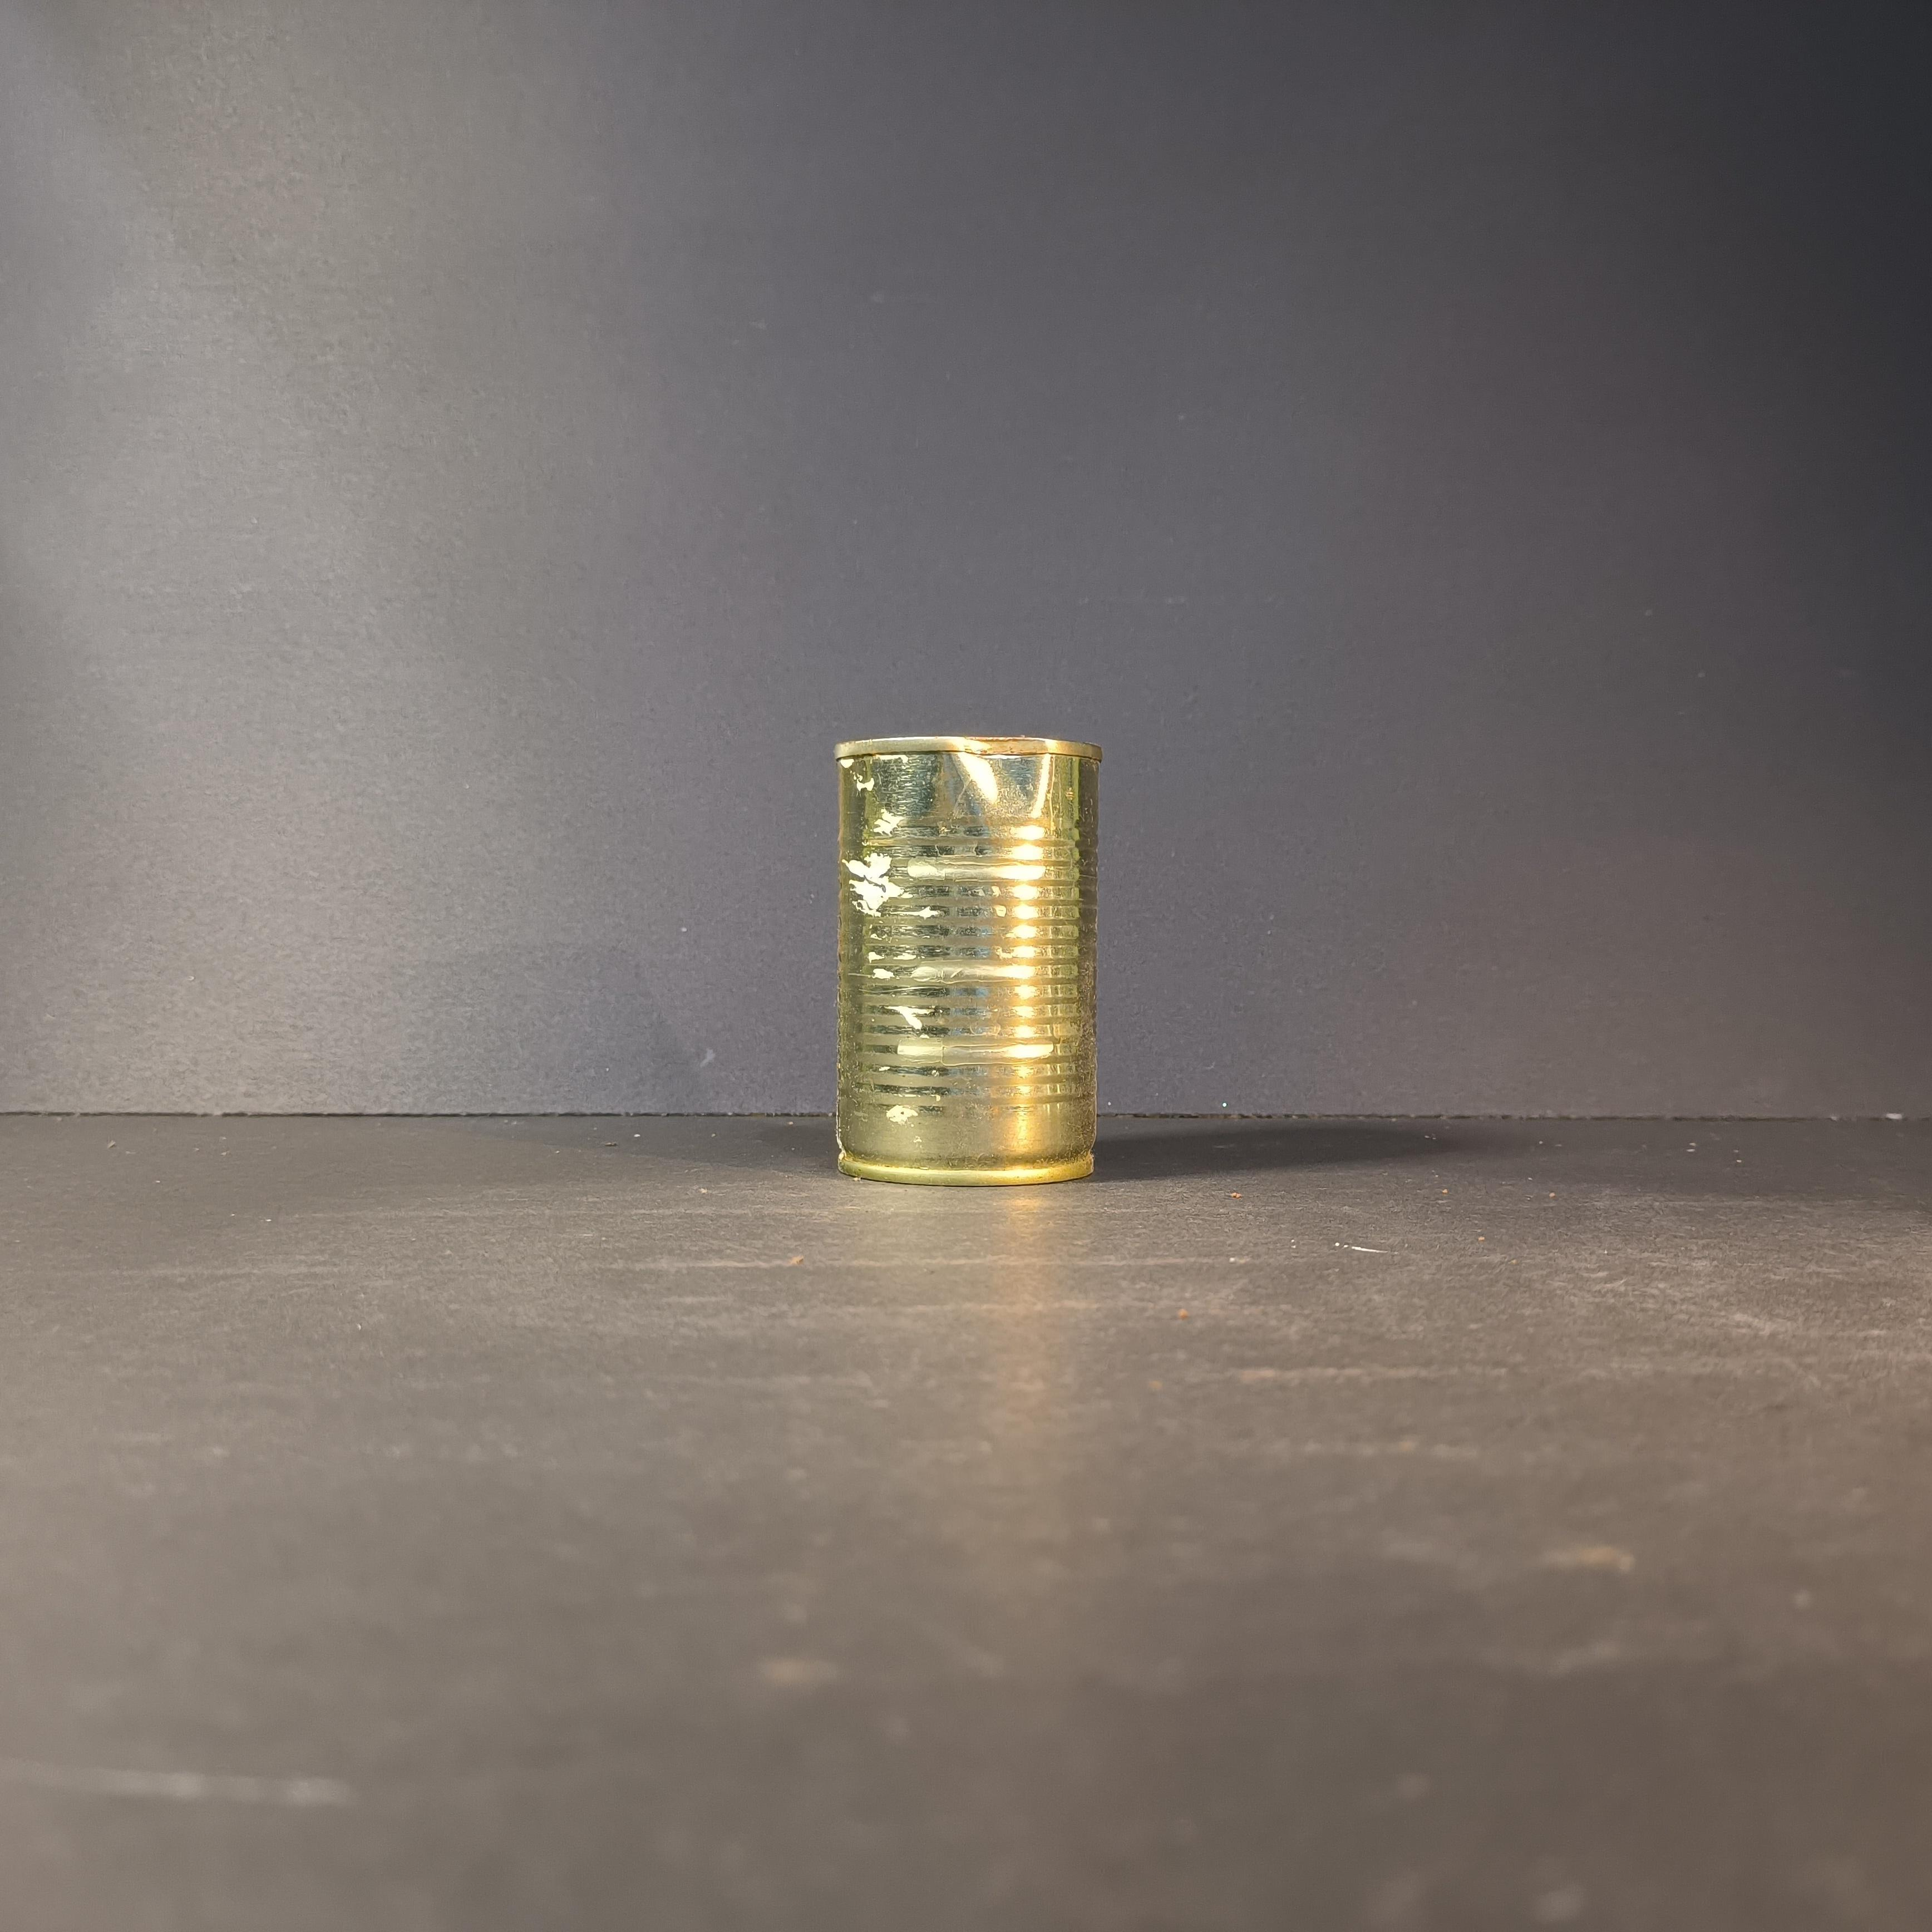Dented: (816, 713, 1123, 1219)
